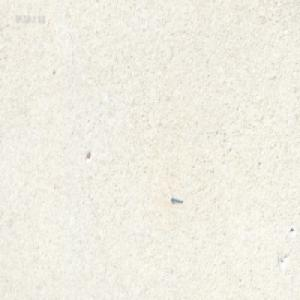Nail: (170, 194, 182, 203)
